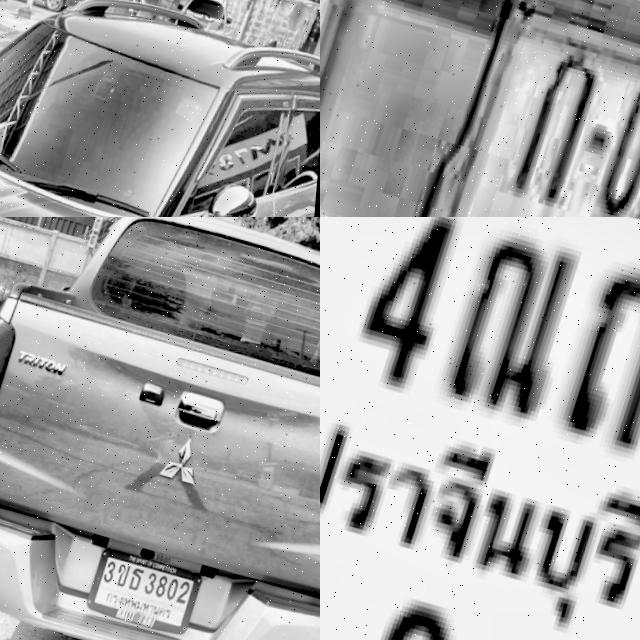license-plate: (320, 217, 640, 640), (405, 0, 640, 217), (92, 544, 215, 635)
